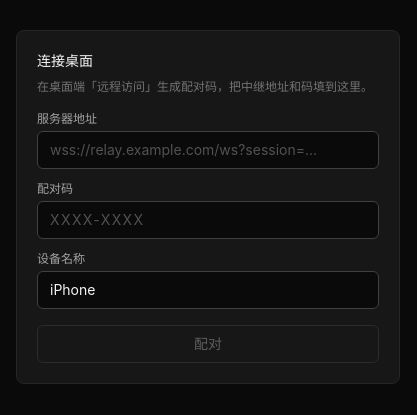
Test: PairingScreen submit › keeps the persisted config untouched when the redeem fails
The image size is (417, 415).
Type "wss://relay.test/ws?session=abc" into the field labelled "服务器地址". click: [208, 150]
box: [37,131,379,169]
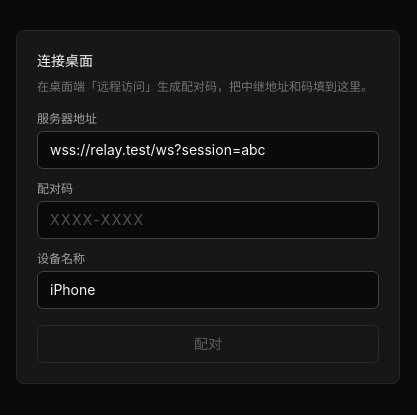
Type "ABCD-EFGH" into the field labelled "配对码". click: [208, 220]
box: [37,201,379,239]
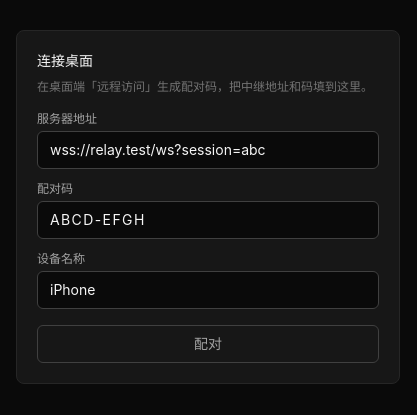
Replace the text in the field labelled "设备名称" with "我的 iPhone". click: [208, 290]
box: [37,271,379,309]
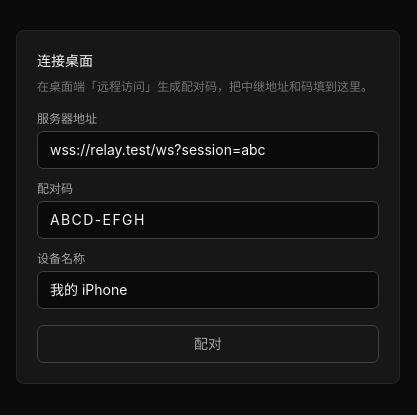
Click the button "配对". click: [208, 344]
box: [37,325,379,363]
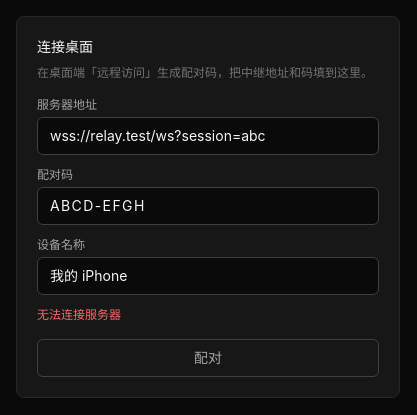
Expected: the message "无法连接服务器" is shown, [37,307,121,322]
